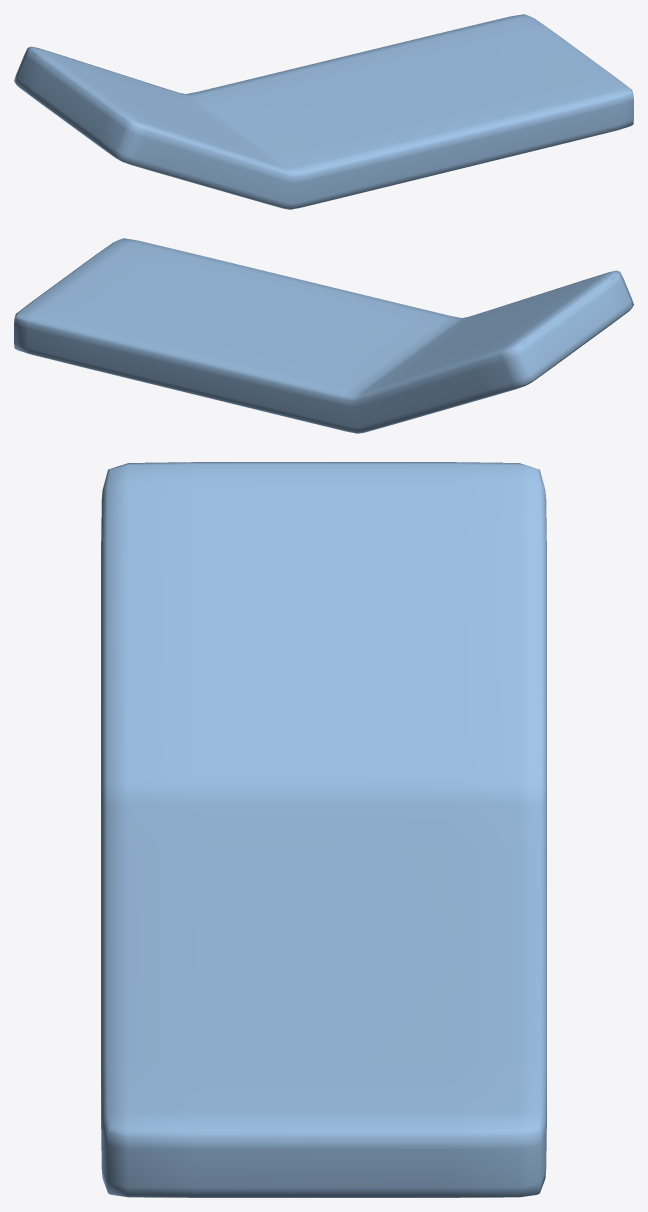
The model's file is KASUR.fbx.
The picture shows the model from 3 angles, top to bottom: view 1: azimuth 30°, elevation 25°; view 2: azimuth 150°, elevation 25°; view 3: azimuth 270°, elevation 25°; orthographic projection. The views are drawn at different scales.
Visible parts, largest first — view 1: Cube.061; view 2: Cube.061; view 3: Cube.061.
Part boxes in pixels (x1,y1,x2,y2): Cube.061: (14, 14, 633, 209); Cube.061: (14, 238, 633, 433); Cube.061: (101, 462, 546, 1197).
Size of the model in its own units: 822 by 189 by 305.
1 material, 1 textured.
